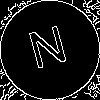N: (25, 25, 73, 79)
